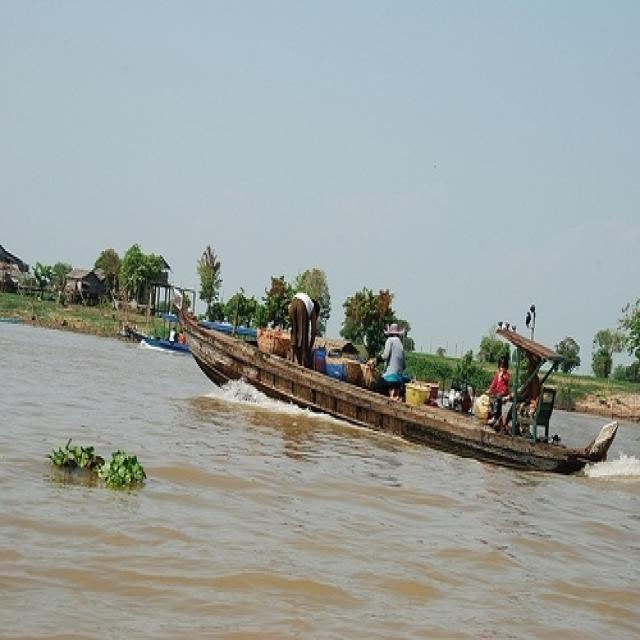Hyacinth: (46, 441, 142, 496)
boat: (174, 303, 620, 485)
